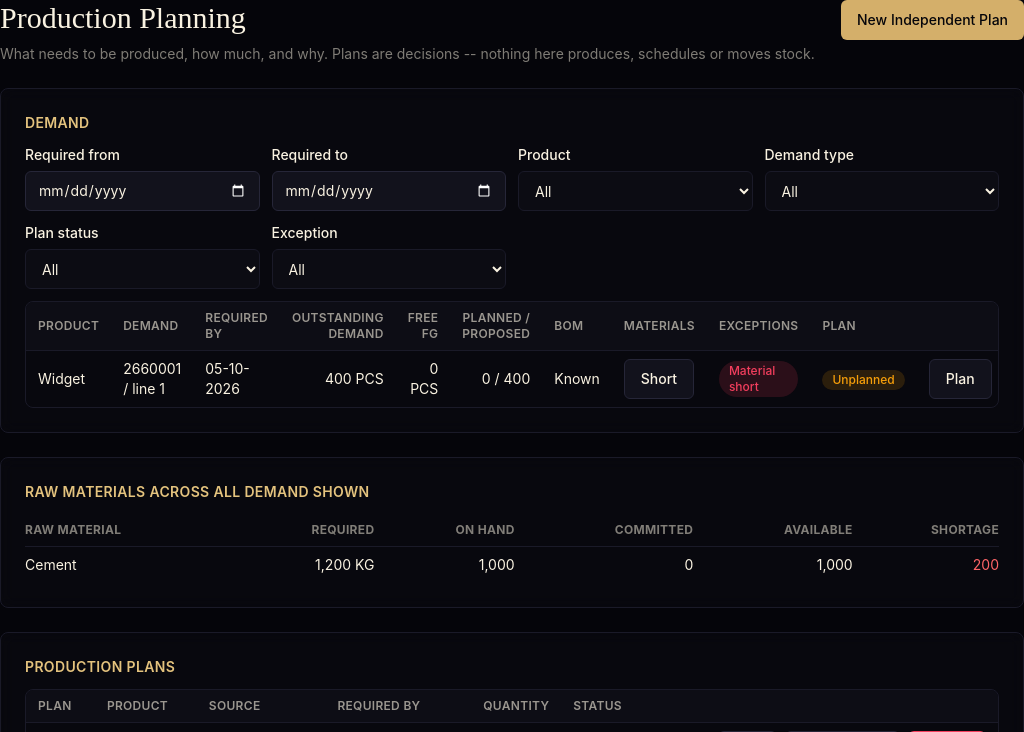
Test: ProductionPlanningPage › shows the demand, its exception and material shortage
The width and height of the screenshot is (1024, 732).
expect the text "2660001 / line 1" is shown: met, box [111, 350, 193, 407]
expect the text "Material short" is shown: met, box [719, 361, 798, 397]
Click the button "Short" at (659, 379), box [624, 359, 694, 399]
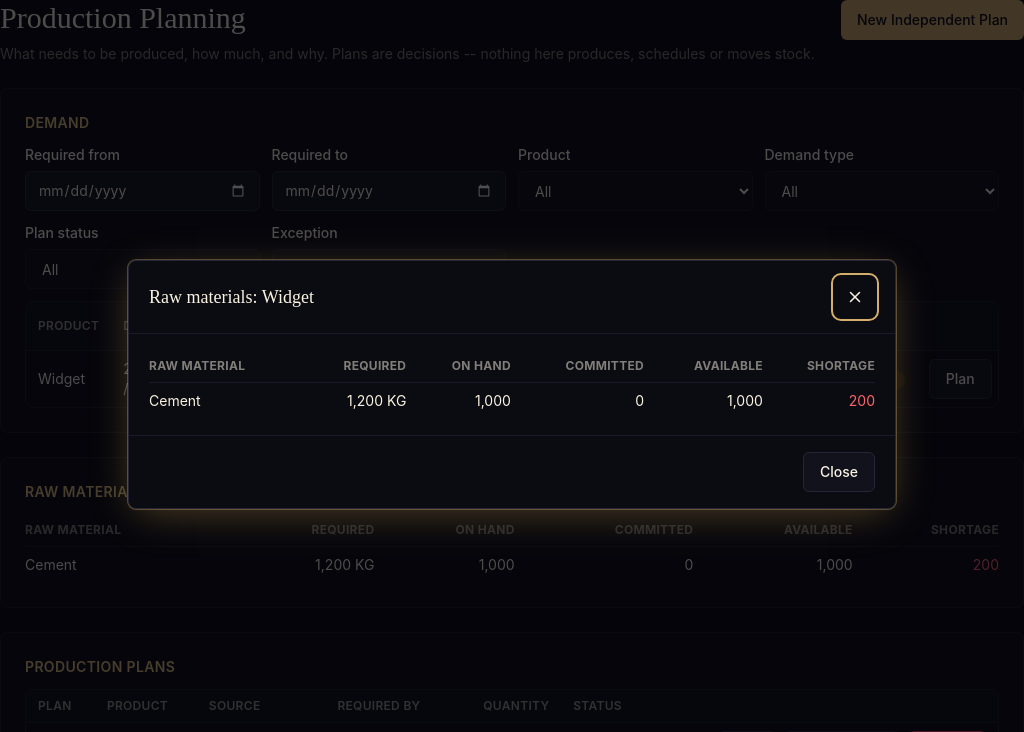
expect the text "Cement" is shown: met, box [149, 382, 308, 418]
expect the text "1,200 KG" is shown: met, box [308, 382, 418, 418]
